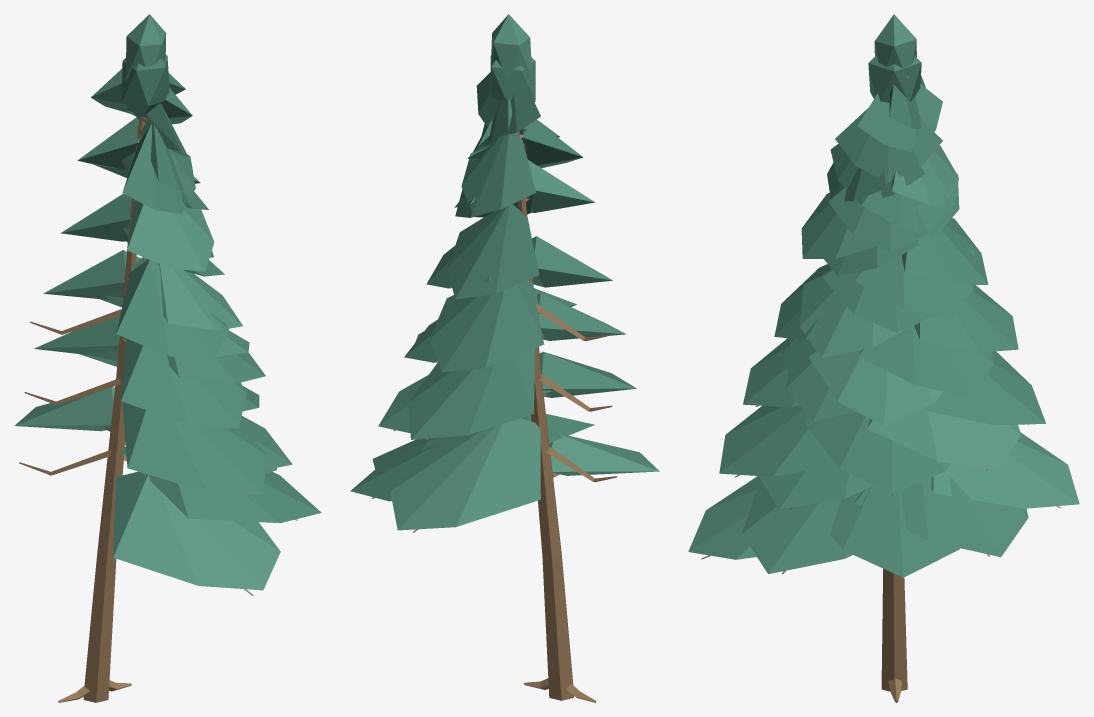
Rendered from conifer_03.glb.
The picture shows the model from 3 angles, left to right: view 1: azimuth 30°, elevation 25°; view 2: azimuth 150°, elevation 25°; view 3: azimuth 270°, elevation 25°; orthographic projection. The views are drawn at different scales.
Parts seen in each view (by area): view 1: Conifer_800_03; view 2: Conifer_800_03; view 3: Conifer_800_03.
Boxes of the visible parts, left/top/right/bottom form: Conifer_800_03: left=14, top=14, right=321, bottom=702; Conifer_800_03: left=350, top=14, right=659, bottom=702; Conifer_800_03: left=688, top=14, right=1079, bottom=702.
Bounding box in the file's own units: 6.31 × 16.03 × 8.13.
